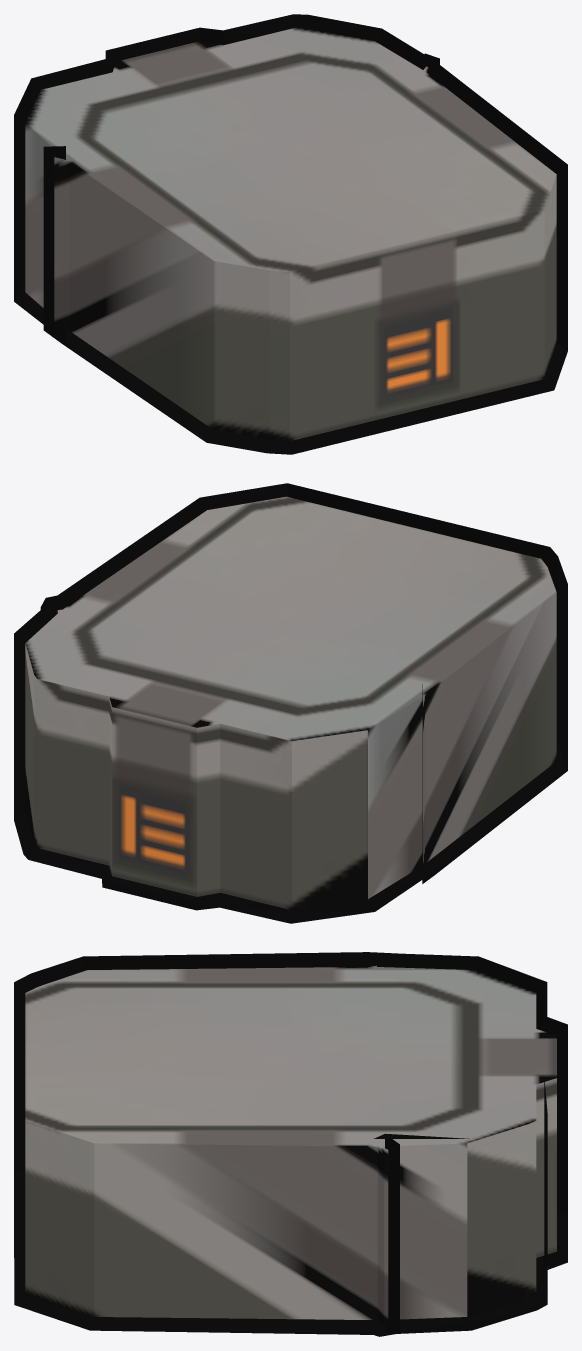
File: Building_AncientSealedCrate_Things_Building_Ancient_OpenableContainers_SealedCrate_Close.glb
The picture shows the model from 3 angles, top to bottom: view 1: azimuth 30°, elevation 25°; view 2: azimuth 150°, elevation 25°; view 3: azimuth 270°, elevation 25°; orthographic projection. The views are drawn at different scales.
Visible parts, largest first — view 1: Body, Outline; view 2: Body, Outline; view 3: Body, Outline.
Part boxes in pixels (<box>): Body: <box>25,27,556,441</box>; Outline: <box>14,14,567,454</box>; Body: <box>25,496,556,910</box>; Outline: <box>14,483,567,923</box>; Body: <box>25,965,556,1323</box>; Outline: <box>14,952,567,1336</box>.
Bounding box in the file's own units: 0.9246 × 0.4483 × 1.12.
Materials: 2 (1 with a texture image).
